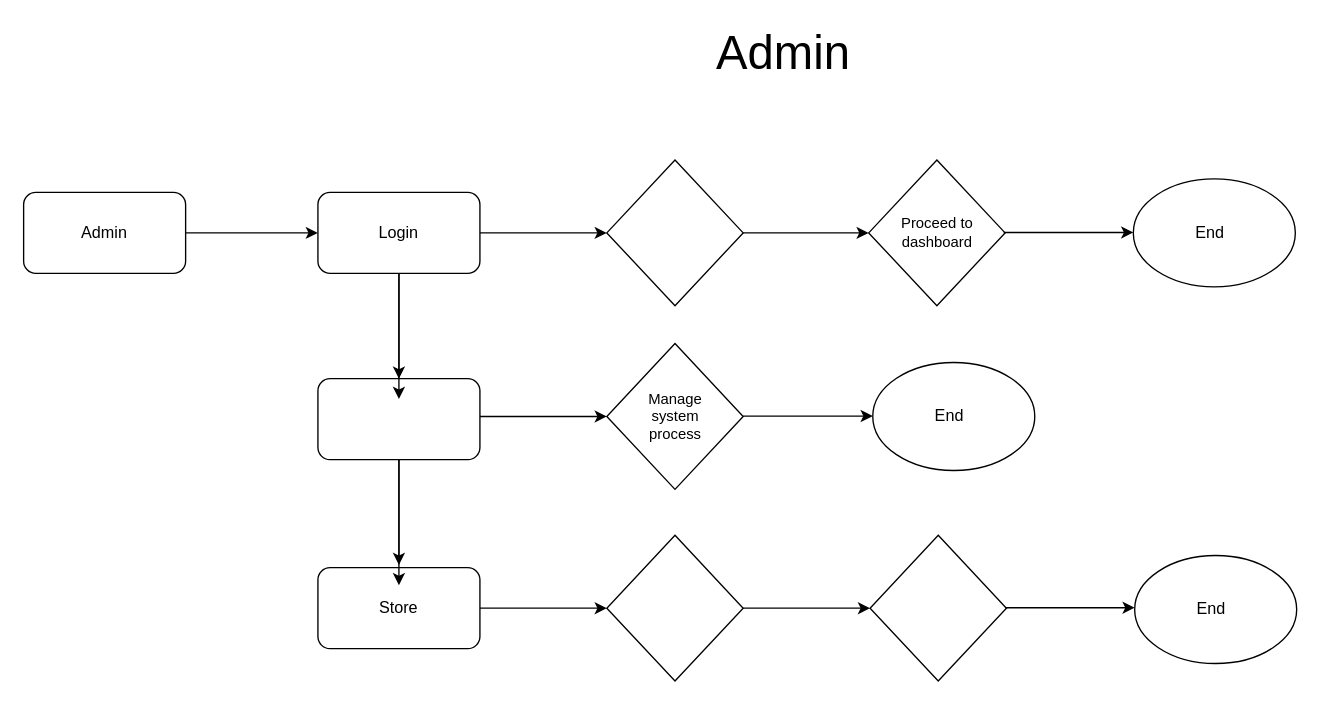
Some shapes in this 1320 by 705 pixel diagram are drawn without their labels. Here are the shapes that lost their labels. From the top down, the centre of each, then its label:
At point 674,232: "Display error if unauthorized".
At point 398,418: "System".
At point 674,607: "Accept store listing".
At point 937,607: "decline store listing".
